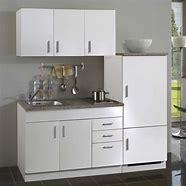cabinet_door: (123, 58, 166, 128), (26, 125, 59, 172), (20, 9, 54, 53), (124, 127, 166, 161), (61, 123, 91, 169), (55, 11, 86, 55), (87, 9, 117, 53), (93, 143, 122, 165), (93, 119, 122, 130), (92, 131, 122, 141)
handle: (125, 137, 130, 152), (46, 40, 51, 54), (55, 40, 60, 54), (61, 125, 66, 138), (53, 125, 57, 140), (88, 40, 92, 55), (125, 84, 129, 99), (102, 122, 113, 127), (102, 145, 113, 150), (102, 134, 113, 138)
